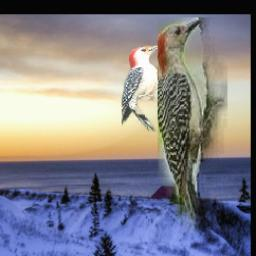Woodpecker: (158, 17, 227, 234), (122, 42, 168, 132)
